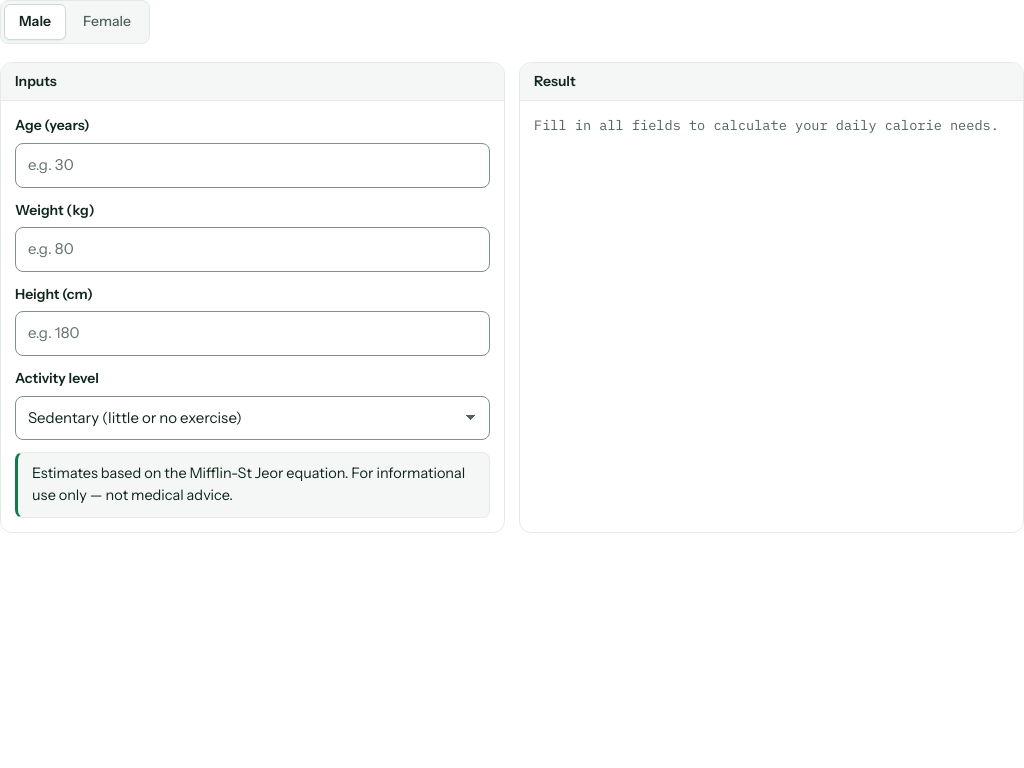
Test: CalorieCalculator › female 25y 60kg 165cm sedentary → BMR 1339, TDEE 1607
Click the tab "Female" at (107, 22), box [68,4,146,40]
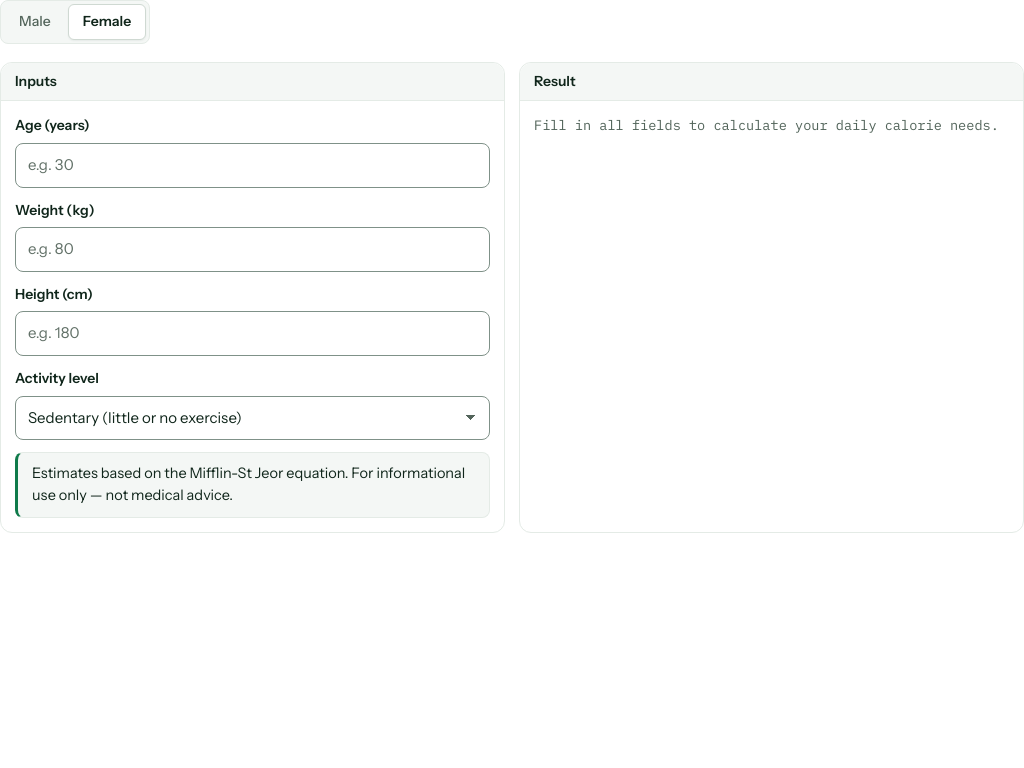
Type "25" into the number field with placeholder "e.g. 30" at (252, 165), box [15,143,490,188]
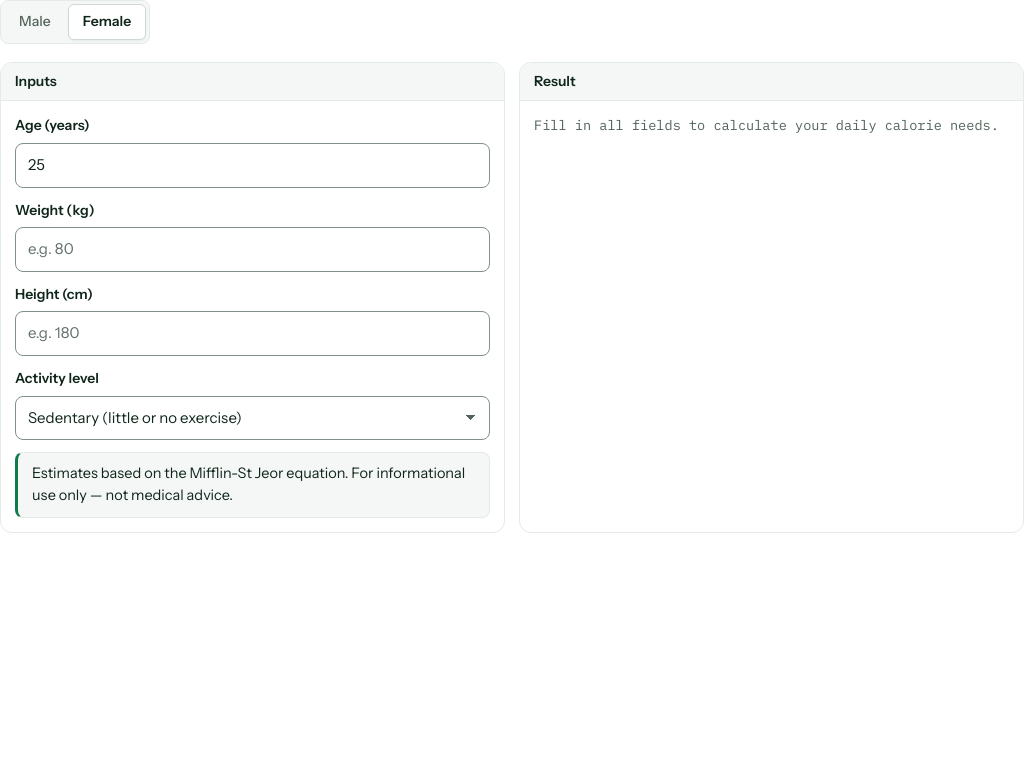
Type "60" into the number field with placeholder "e.g. 80" at (252, 250), box [15,227,490,272]
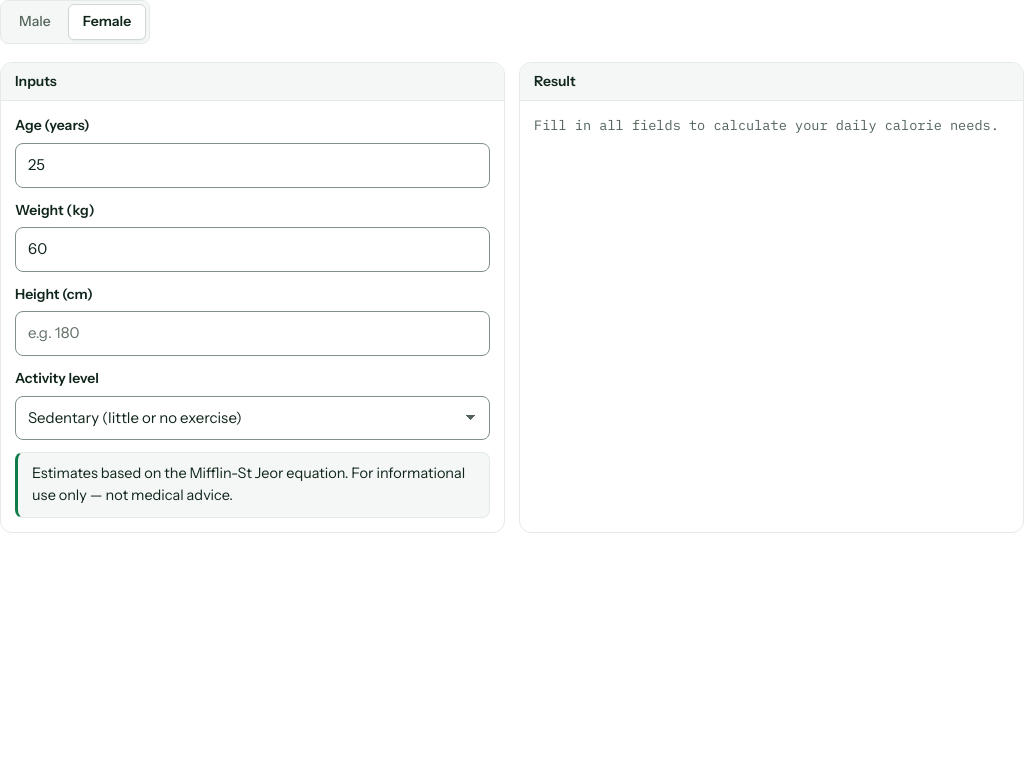
Type "165" into the number field with placeholder "e.g. 180" at (252, 334), box [15,311,490,356]
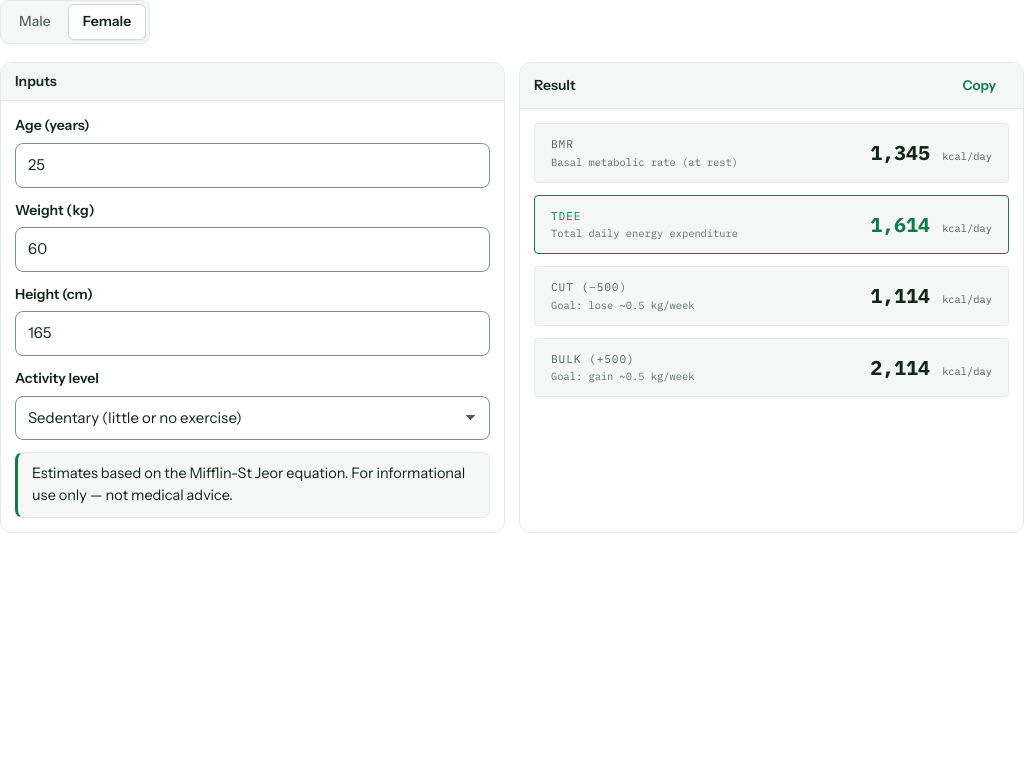
Result: the text "1,345 kcal/day" is shown at [870,138,992,168]
Result: the text "1,614 kcal/day" is shown at [870,209,992,240]
